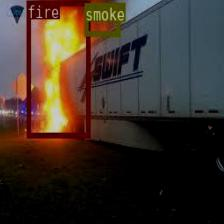fire: (26, 0, 89, 136)
smoke: (84, 2, 119, 35)
